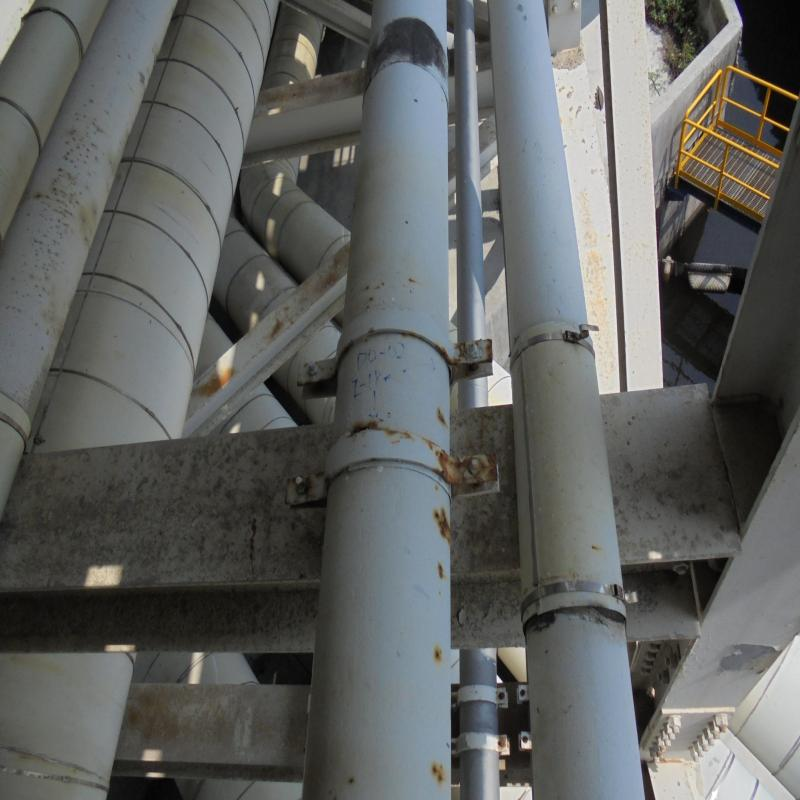Fracture: (350, 422, 379, 438)
corrosion: (431, 510, 457, 547), (426, 756, 452, 788), (432, 650, 448, 670)
